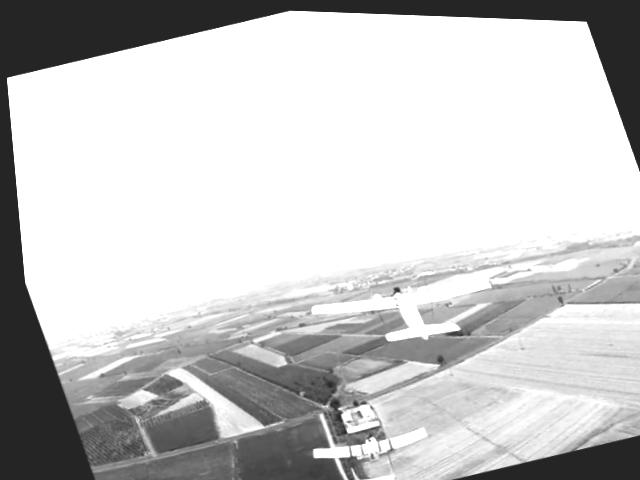hedef: (296, 246, 510, 371), (294, 408, 438, 480)
